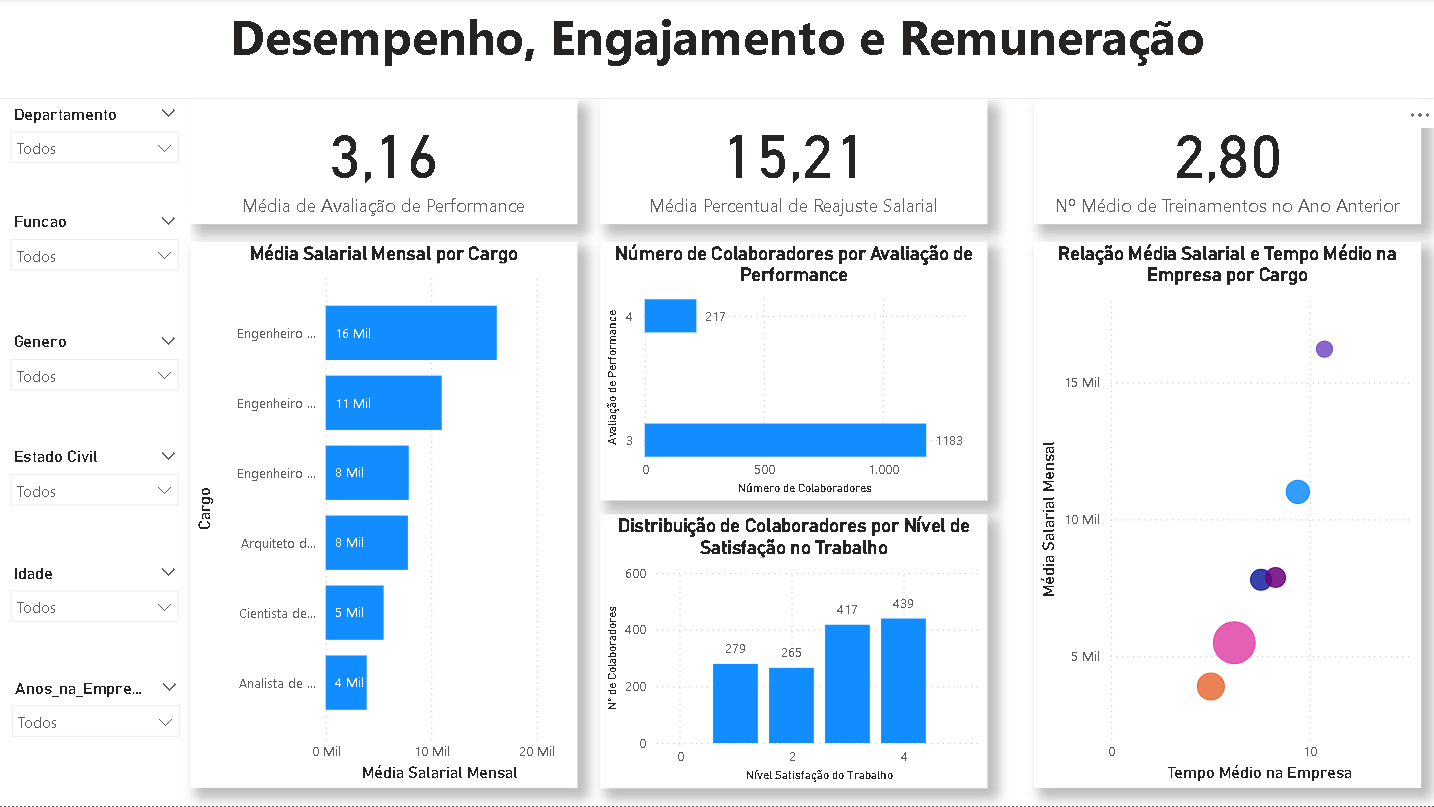

The dashboard page shown, as its layout file describes it:
{"tool":"powerbi","page":{"name":"Desempenho, Engajamento e Remuneração","canvas":[1280,720],"ordinal":1},"visuals":[{"type":"card","fields":{"Values":["Avg(DatasetRH.Aval_Performance)"]},"box":[170.1,90.5,345,111],"z":0},{"type":"card","fields":{"Values":["Avg(DatasetRH.Numero_Treinamentos_Ano_Anterior)"]},"box":[921.7,90.5,345,111],"z":1000},{"type":"card","fields":{"Values":["Avg(DatasetRH.Percentual_Ultimo_Aumento_Salario)"]},"box":[535.7,90.5,345,111],"z":2000},{"type":"slicer","fields":{"Values":["DatasetRH.Departamento"]},"box":[0,90.5,170.1,102.5],"z":3000},{"type":"slicer","fields":{"Values":["DatasetRH.Funcao"]},"box":[0,185.8,170.1,102.5],"z":4000},{"type":"slicer","fields":{"Values":["DatasetRH.Genero"]},"box":[0,293.2,170.1,102.5],"z":5000},{"type":"slicer","fields":{"Values":["DatasetRH.Estado Civil"]},"box":[0,395.7,170.1,102.5],"z":6000},{"type":"slicer","fields":{"Values":["DatasetRH.Idade"]},"box":[0,498.3,170.1,102.5],"z":7000},{"type":"slicer","fields":{"Values":["DatasetRH.Anos_na_Empresa"]},"box":[1.2,600.8,170.1,102.5],"z":8000},{"type":"barChart","fields":{"Category":["DatasetRH.Aval_Performance"],"Y":["CountNonNull(DatasetRH.Id_Funcionario)"]},"box":[535.7,217.2,345,230.4],"z":8001},{"type":"columnChart","title":"Distribuição de Colaboradores por Nível de Satisfação no Trabalho","fields":{"Category":["DatasetRH.Nivel_Satisfacao_Trabalho"],"Y":["CountNonNull(DatasetRH.Id_Funcionario)"]},"box":[535.7,459.7,345,243.7],"z":8002},{"type":"scatterChart","title":"Relação Média Salarial e Tempo Médio na Empresa por Cargo","fields":{"X":["Avg(DatasetRH.Anos_na_Empresa)"],"Y":["Avg(DatasetRH.Salario_Mensal)"],"Size":["CountNonNull(DatasetRH.Id_Funcionario)"],"Series":["DatasetRH.Funcao"]},"box":[921.7,217.2,345,486.2],"z":8003},{"type":"barChart","fields":{"Y":["Avg(DatasetRH.Salario_Mensal)"],"Category":["DatasetRH.Funcao"]},"box":[170.1,217.2,345,486.2],"z":8004},{"type":"textbox","box":[0,0,1280,90.5],"z":8005}]}

Visuals, with their boxes in screenshot pixels (x1, y1, x2, y2), scaled from the page's 1280x720 canvas onto the 1434x807 screenshot:
card - Avg(DatasetRH.Aval_Performance): <box>191,101,577,226</box>
card - Avg(DatasetRH.Numero_Treinamentos_Ano_Anterior): <box>1033,101,1419,226</box>
card - Avg(DatasetRH.Percentual_Ultimo_Aumento_Salario): <box>600,101,987,226</box>
slicer - DatasetRH.Departamento: <box>0,101,191,216</box>
slicer - DatasetRH.Funcao: <box>0,208,191,323</box>
slicer - DatasetRH.Genero: <box>0,329,191,444</box>
slicer - DatasetRH.Estado Civil: <box>0,444,191,558</box>
slicer - DatasetRH.Idade: <box>0,559,191,673</box>
slicer - DatasetRH.Anos_na_Empresa: <box>1,673,192,788</box>
barChart - DatasetRH.Aval_Performance x CountNonNull(DatasetRH.Id_Funcionario): <box>600,243,987,502</box>
"Distribuição de Colaboradores por Nível de Satisfação no Trabalho" columnChart: <box>600,515,987,788</box>
"Relação Média Salarial e Tempo Médio na Empresa por Cargo" scatterChart: <box>1033,243,1419,788</box>
barChart - Avg(DatasetRH.Salario_Mensal) x DatasetRH.Funcao: <box>191,243,577,788</box>
textbox: <box>0,0,1433,101</box>
